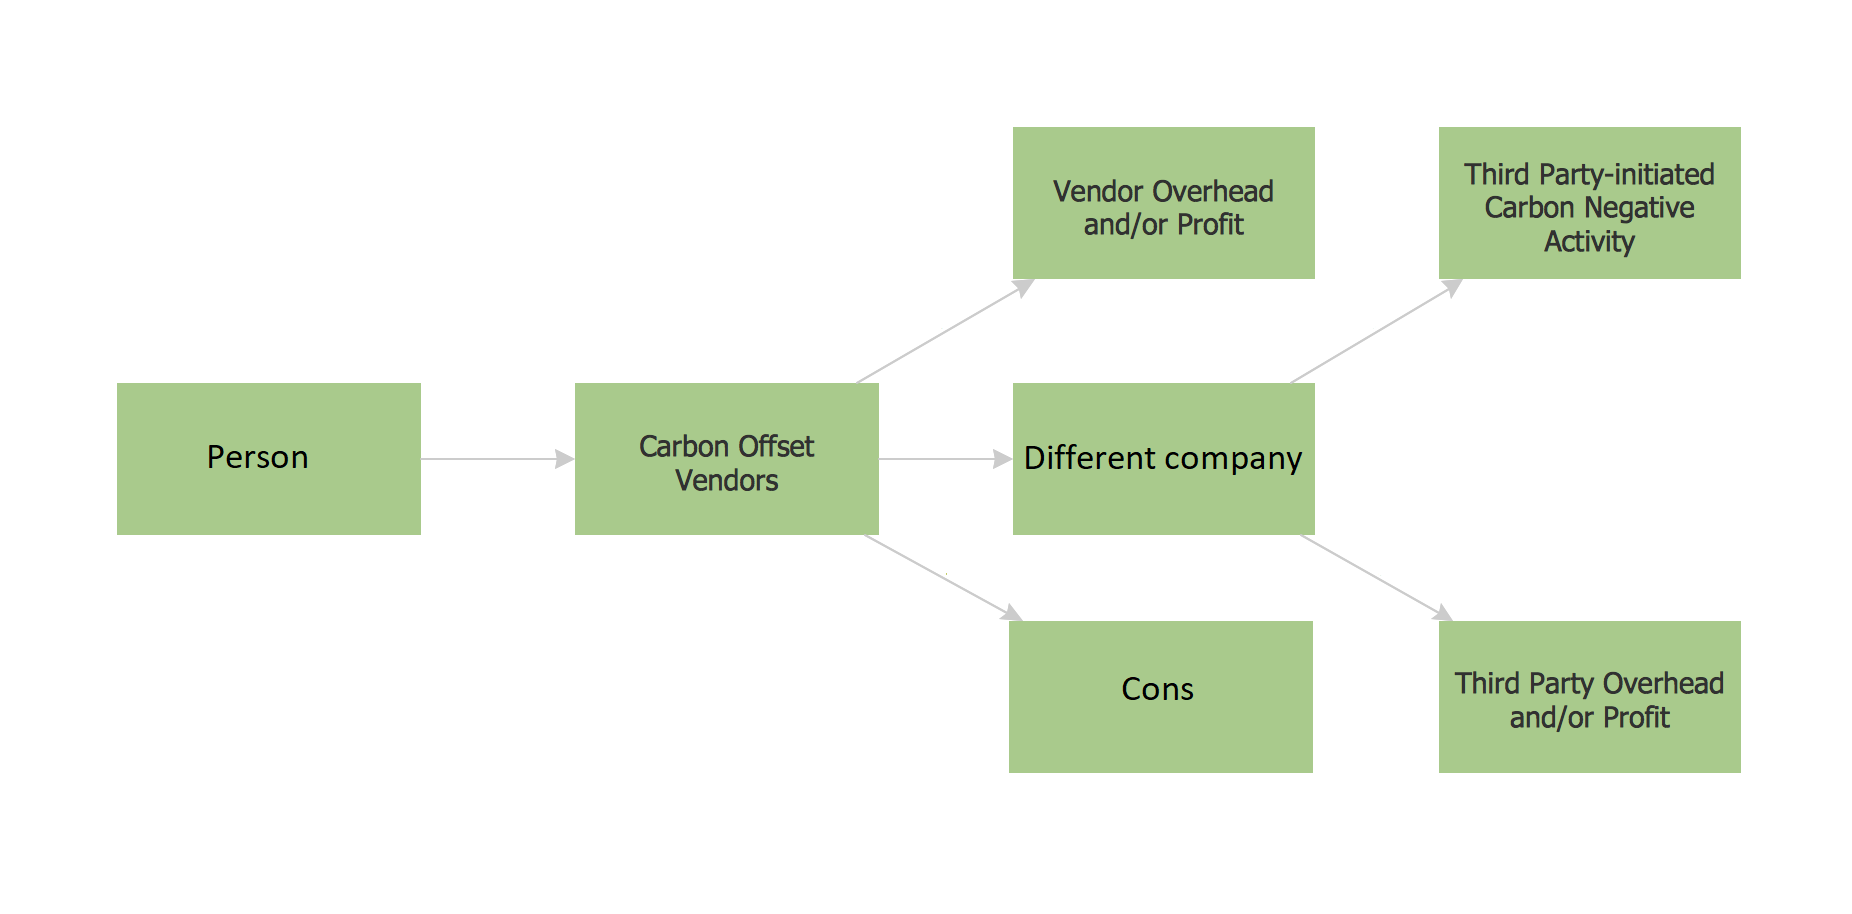arrow: (1289, 270, 1474, 394), (850, 274, 1043, 385), (1295, 525, 1463, 633), (854, 529, 1026, 631), (417, 442, 578, 475), (873, 444, 1020, 472)
process: (1000, 613, 1320, 781), (110, 374, 426, 542), (567, 374, 887, 540), (1007, 120, 1323, 287), (1432, 120, 1745, 283), (1007, 377, 1320, 538), (1434, 618, 1745, 777)
text: (1460, 151, 1723, 266), (1445, 661, 1730, 738), (1046, 170, 1282, 246), (632, 425, 826, 500), (1019, 437, 1306, 483), (198, 437, 313, 474), (1119, 674, 1202, 709)
